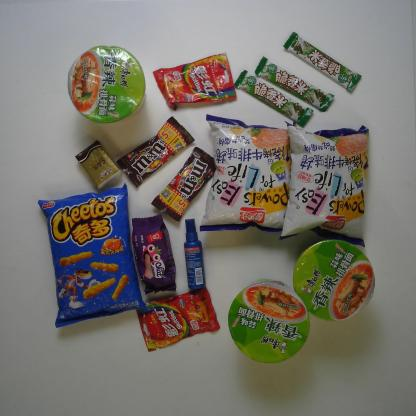Candy: (136, 286, 221, 353), (152, 51, 237, 111)
Chocolate: (115, 116, 196, 188), (150, 146, 216, 224), (282, 31, 362, 93), (233, 69, 314, 129), (254, 56, 334, 113)
Dessert: (131, 213, 176, 295)
Instant Noodles: (292, 238, 376, 323), (228, 278, 310, 364), (67, 44, 146, 124)
Personal Hygiene: (184, 219, 206, 289)
Puffed Food: (37, 182, 150, 328), (278, 121, 369, 248), (199, 112, 291, 233)
Tissue: (74, 138, 123, 190)
